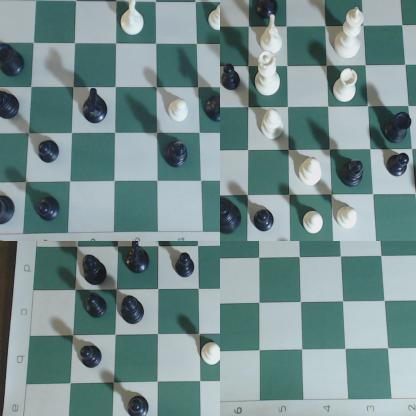black-bishop: (81, 249, 113, 287), (164, 140, 193, 172), (341, 158, 370, 190), (120, 295, 148, 328), (1, 87, 24, 123)
black-king: (221, 193, 250, 239)
black-knight: (83, 85, 110, 127), (126, 242, 154, 278), (255, 1, 285, 25), (204, 85, 220, 126)
black-pawn: (170, 249, 201, 286), (77, 341, 107, 377), (251, 205, 283, 234), (387, 151, 414, 182), (120, 394, 156, 416), (83, 291, 111, 319), (37, 192, 60, 226), (36, 139, 61, 166), (221, 63, 242, 94)
black-rook: (383, 107, 416, 149), (1, 42, 29, 79), (1, 193, 18, 227)
white-bishop: (257, 112, 290, 146), (298, 151, 326, 190)
white-king: (334, 3, 366, 65)
white-knight: (258, 17, 291, 62), (120, 1, 148, 37)
white-pawn: (299, 206, 329, 241), (334, 200, 363, 236), (197, 334, 220, 373), (167, 95, 192, 126), (206, 4, 220, 31)
white-queen: (253, 54, 289, 99)
white-rook: (330, 68, 365, 107)
